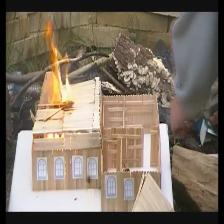fire: (45, 33, 73, 104)
